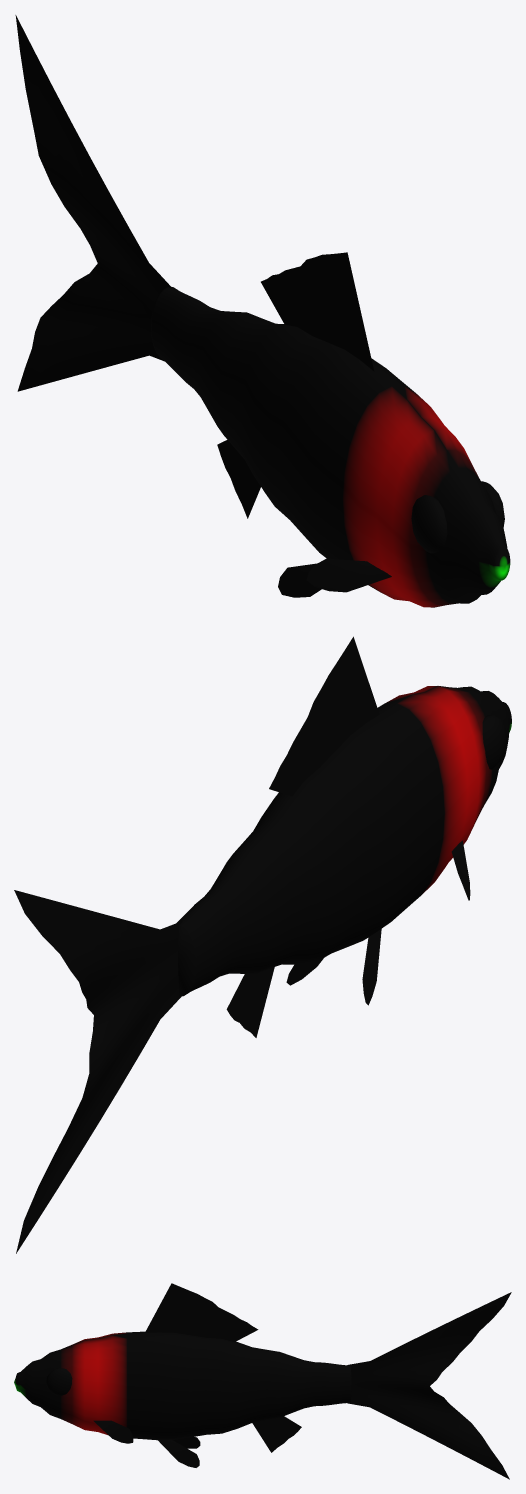
Rendered from goldfish.glb.
3 renders of one model, top to bottom at view 1: azimuth 30°, elevation 25°; view 2: azimuth 150°, elevation 25°; view 3: azimuth 270°, elevation 25°, orthographic. The views are drawn at different scales.
Parts seen in each view (by area): view 1: gfcomet_body, gfcomet_caudal, gfcomet_dorsal, gfcomet_pectoralL, gfcomet_eyeL, gfcomet_anal, gfcomet_pelvicL; view 2: gfcomet_body, gfcomet_caudal, gfcomet_dorsal, gfcomet_anal, gfcomet_eyeL, gfcomet_pelvicL; view 3: gfcomet_body, gfcomet_caudal, gfcomet_dorsal, gfcomet_anal, gfcomet_pelvicR, gfcomet_eyeR, gfcomet_pectoralR.
Part boxes in pixels (x1,y1,x2,y2): gfcomet_body: (151, 287, 510, 607); gfcomet_caudal: (15, 15, 171, 391); gfcomet_dorsal: (261, 252, 374, 371); gfcomet_pectoralL: (306, 558, 391, 592); gfcomet_eyeL: (411, 495, 447, 553); gfcomet_anal: (217, 440, 260, 518); gfcomet_pelvicL: (278, 563, 321, 597); gfcomet_body: (177, 686, 511, 996); gfcomet_caudal: (14, 890, 182, 1253); gfcomet_dorsal: (269, 636, 379, 796); gfcomet_anal: (226, 967, 274, 1037); gfcomet_eyeL: (482, 715, 506, 769); gfcomet_pelvicL: (362, 929, 381, 1005); gfcomet_body: (14, 1331, 351, 1440); gfcomet_caudal: (347, 1292, 511, 1479); gfcomet_dorsal: (145, 1283, 258, 1342); gfcomet_anal: (252, 1416, 301, 1452); gfcomet_pelvicR: (158, 1439, 199, 1467); gfcomet_eyeR: (46, 1368, 72, 1395); gfcomet_pectoralR: (93, 1420, 133, 1443).
Bounding box in the file's own units: 0.2735 × 0.6378 × 1.48.
